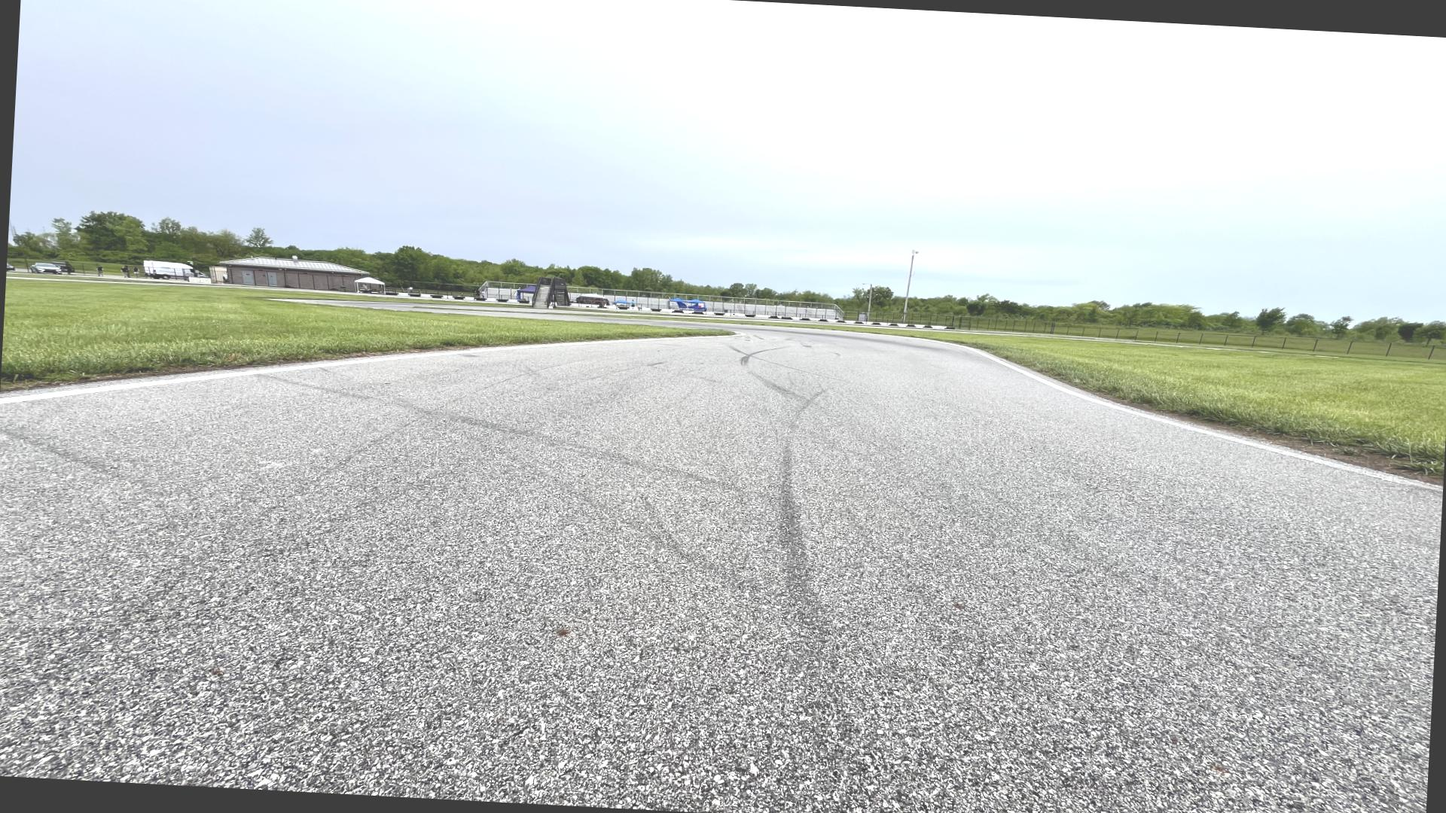white-line: (670, 321, 1442, 495), (0, 332, 746, 405)
